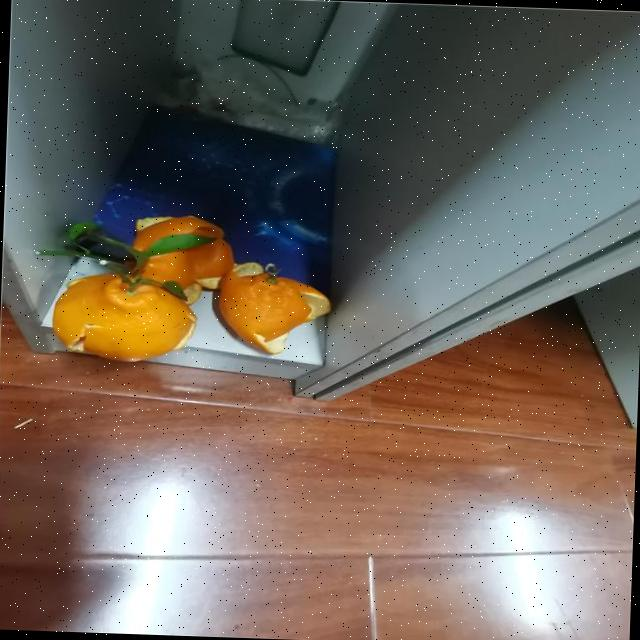orange-peel: (49, 208, 334, 368), (49, 268, 198, 364), (215, 260, 332, 356)
